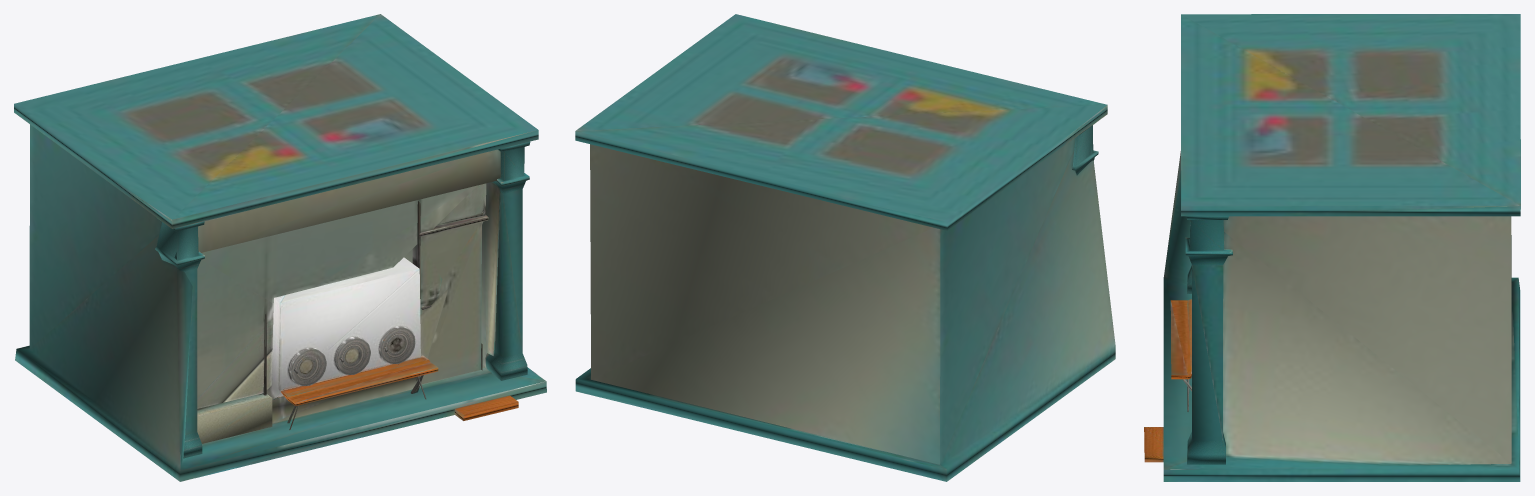
File: laundromat_front.glb
3 views of the same model, side by side, from view 1: azimuth 30°, elevation 25°; view 2: azimuth 150°, elevation 25°; view 3: azimuth 270°, elevation 25° (orthographic). The views are drawn at different scales.
Bounding box in the file's own units: 4.5 × 3.01 × 3.73.
Materials: 1 (1 with a texture image).
